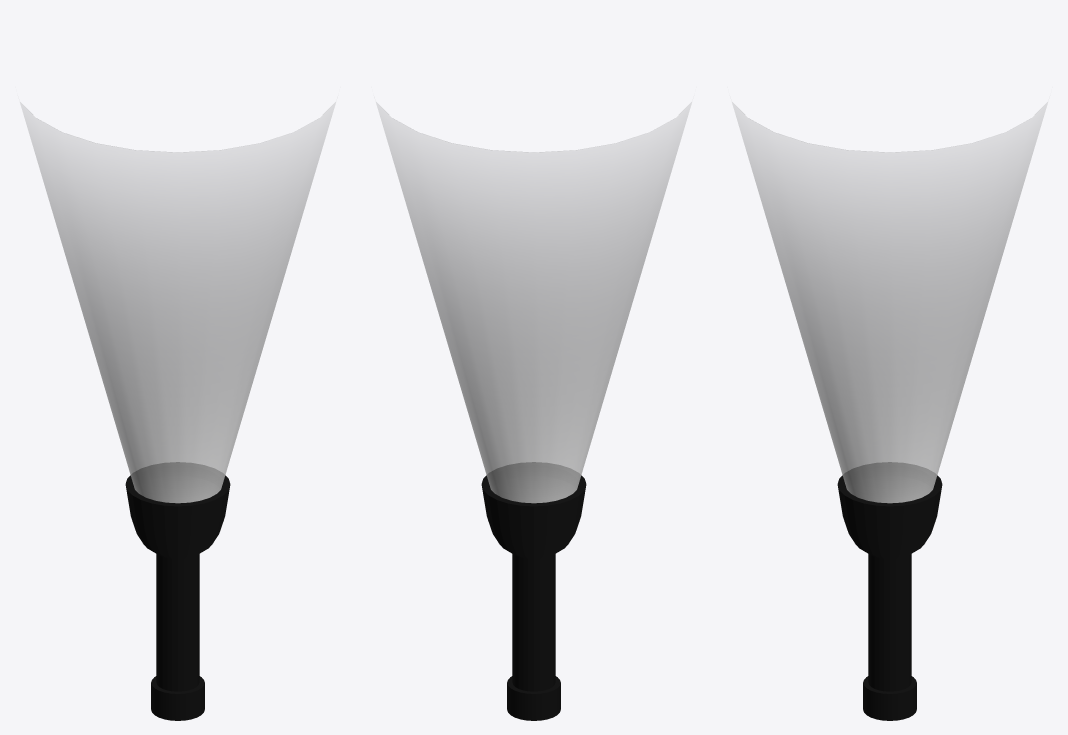
The model's file is flashLight.gltf.
The picture shows the model from 3 angles, left to right: view 1: azimuth 30°, elevation 25°; view 2: azimuth 150°, elevation 25°; view 3: azimuth 270°, elevation 25°; orthographic projection.
Visible parts, largest first — view 1: Cylinder1, Cylinder; view 2: Cylinder1, Cylinder; view 3: Cylinder1, Cylinder.
Part boxes in pixels (x1,y1,x2,y2): Cylinder1: (25, 108, 330, 503); Cylinder: (125, 462, 230, 720); Cylinder1: (381, 108, 686, 503); Cylinder: (481, 462, 586, 720); Cylinder1: (737, 108, 1042, 503); Cylinder: (837, 462, 942, 720).
Size of the model in its own units: 0.4314 by 0.91 by 0.4314.
2 materials, 1 textured.
